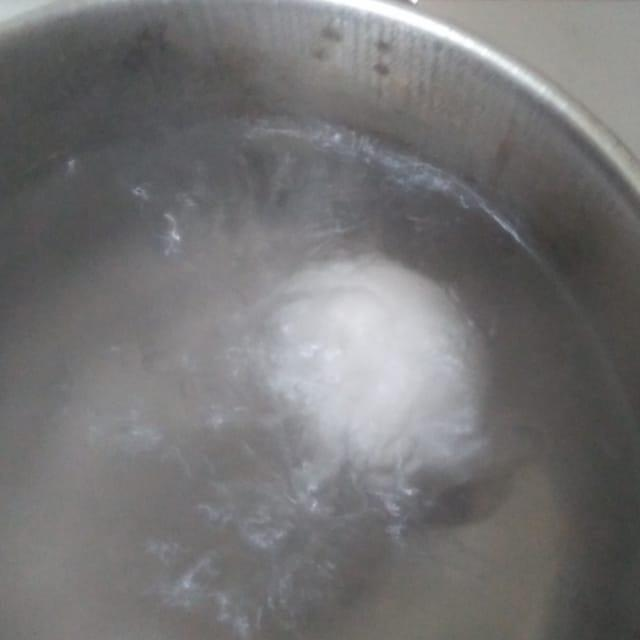egg: (277, 246, 473, 459)
